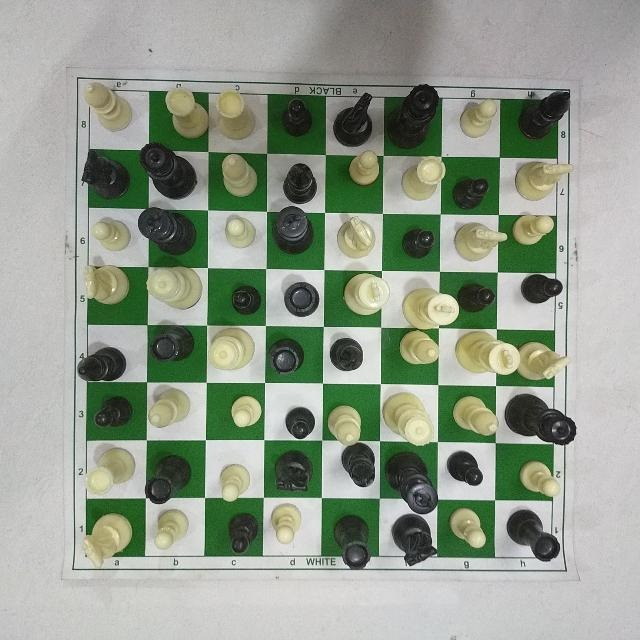black-bishop: (507, 77, 581, 151), (70, 344, 133, 391), (333, 439, 382, 495), (281, 158, 325, 214), (324, 329, 368, 378)
black-king: (382, 448, 441, 516), (132, 203, 202, 259), (265, 195, 323, 257)
black-knight: (323, 89, 385, 155), (72, 142, 134, 204), (387, 511, 445, 573), (263, 440, 323, 495)
black-pawn: (444, 444, 491, 497), (215, 504, 262, 554), (276, 89, 319, 141), (398, 219, 445, 266), (512, 267, 567, 307), (87, 390, 139, 432), (448, 174, 496, 215), (449, 275, 499, 313), (276, 399, 320, 442), (226, 278, 264, 320)
black-queen: (499, 386, 587, 452), (381, 76, 451, 154), (137, 134, 204, 202)
black-rook: (502, 503, 568, 569), (139, 450, 200, 508), (329, 512, 376, 576), (279, 275, 329, 325), (148, 320, 200, 367), (267, 335, 307, 383)
white-bishop: (443, 385, 505, 447), (80, 74, 138, 137), (322, 392, 372, 450), (144, 382, 197, 434), (212, 147, 259, 201), (392, 323, 444, 371)
white-king: (390, 280, 466, 332), (448, 331, 521, 383), (336, 261, 394, 324)
white-knight: (70, 503, 137, 574), (503, 152, 581, 204), (76, 253, 134, 314), (507, 338, 577, 388), (448, 218, 512, 267), (328, 210, 383, 265)
white-pawn: (451, 88, 503, 143), (440, 499, 491, 553), (339, 147, 388, 194), (509, 206, 561, 250), (266, 498, 310, 549), (149, 507, 193, 555), (209, 461, 252, 509), (86, 210, 131, 255), (517, 457, 561, 500), (220, 209, 262, 252), (223, 392, 266, 434)
white-queen: (378, 384, 440, 452), (137, 253, 207, 310), (205, 323, 259, 371)
white-rook: (207, 75, 268, 146), (78, 442, 139, 503), (160, 77, 214, 142), (395, 149, 449, 207)
